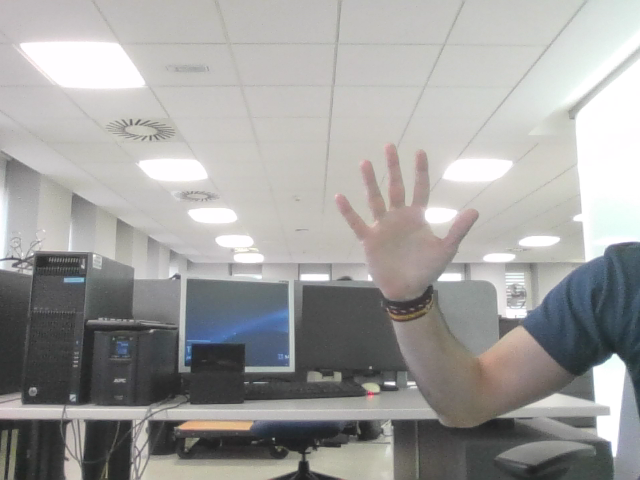Mano Abierta: (346, 156, 465, 266)
